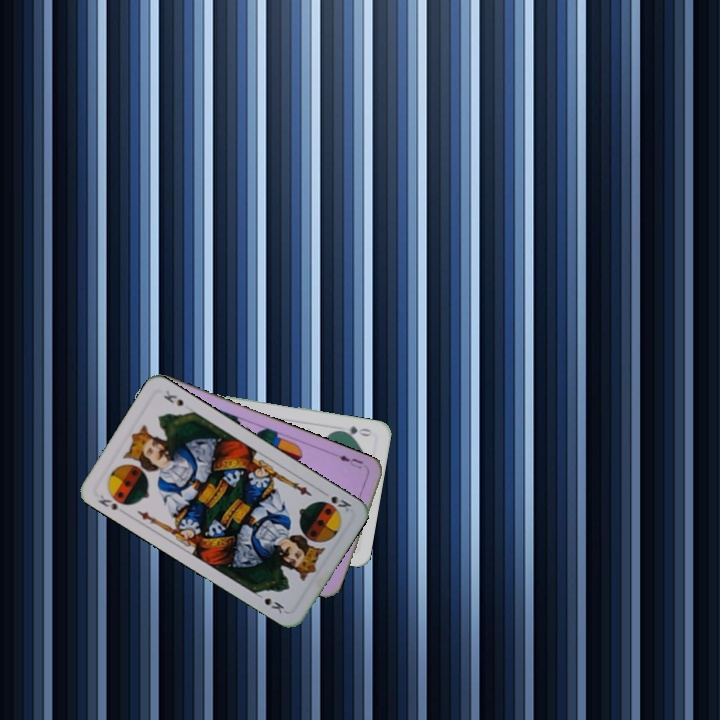EU: (335, 451, 365, 471)
GO: (334, 422, 374, 439)
SK: (317, 487, 354, 514), (94, 491, 121, 513)
